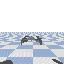drone: (20, 34, 42, 45)
